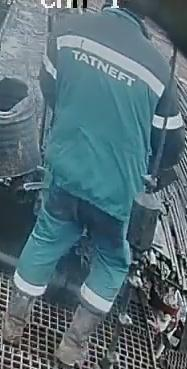vest: (39, 7, 176, 221)
